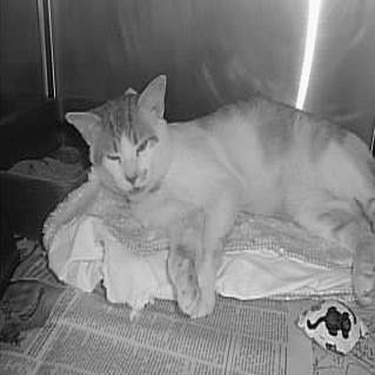cat: (62, 71, 368, 323)
